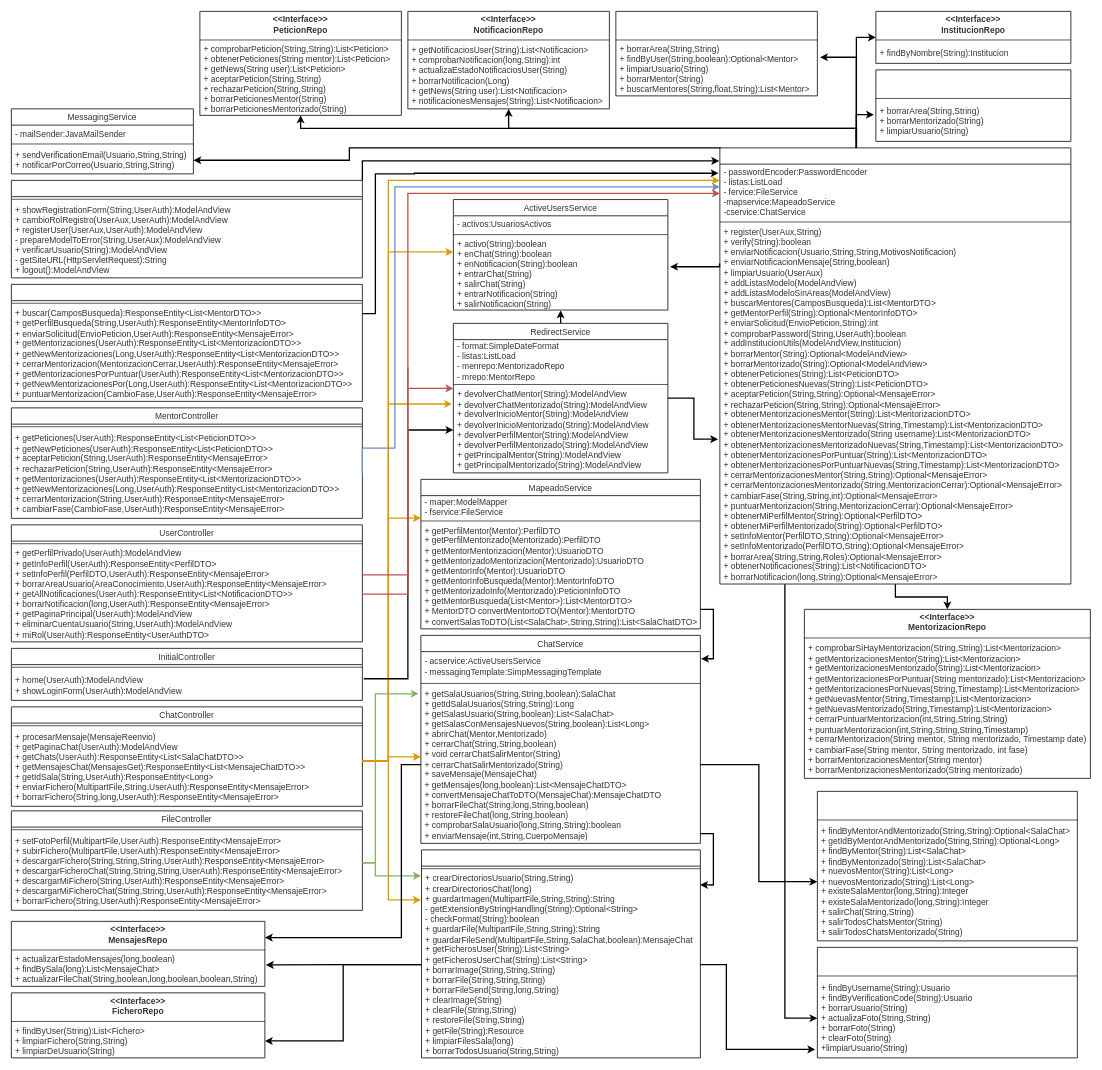
Some shapes in this 1102 by 1070 pixel diagram are drawn without their labels. The box of each missing label's shape, as (x1, y1, x2, y2) in pixels:
<<Interface>> MentorizadoRepo: (875, 69, 1071, 142)
<<Interface>> MentorRepo: (615, 11, 818, 96)
<<Interface>> SalaChatRepo: (817, 791, 1078, 941)
<<Interface>> UsuarioRepo: (817, 947, 1078, 1058)
FileService: (421, 849, 701, 1058)
MentorizadoController: (11, 284, 363, 402)
RegisterController: (11, 180, 363, 278)
UserService: (719, 147, 1071, 584)
